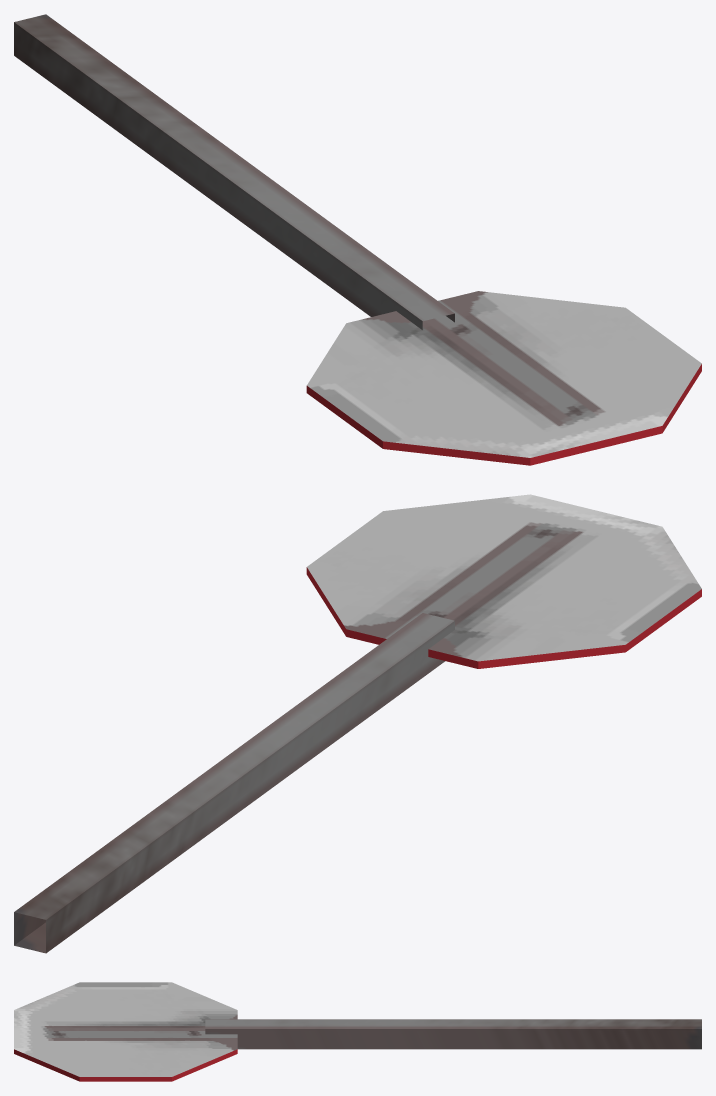
File: pz_native_street_decoration_01_2.obj
The picture shows the model from 3 angles, top to bottom: view 1: azimuth 30°, elevation 25°; view 2: azimuth 150°, elevation 25°; view 3: azimuth 270°, elevation 25°; orthographic projection. The views are drawn at different scales.
Parts seen in each view (by area): view 1: pz_native_street_decoration_01_2; view 2: pz_native_street_decoration_01_2; view 3: pz_native_street_decoration_01_2.
Boxes of the visible parts, x1=… form: pz_native_street_decoration_01_2: x1=14, y1=14, x2=701, y2=465; pz_native_street_decoration_01_2: x1=14, y1=494, x2=701, y2=953; pz_native_street_decoration_01_2: x1=14, y1=982, x2=701, y2=1081.
Size of the model in its own units: 0.6094 by 0.0613 by 1.87.
1 material, 1 textured.
